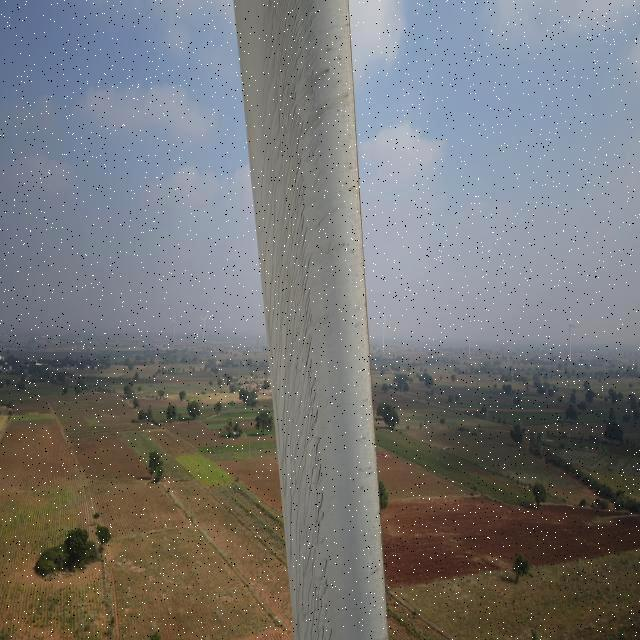Dirt: (231, 1, 387, 640)
